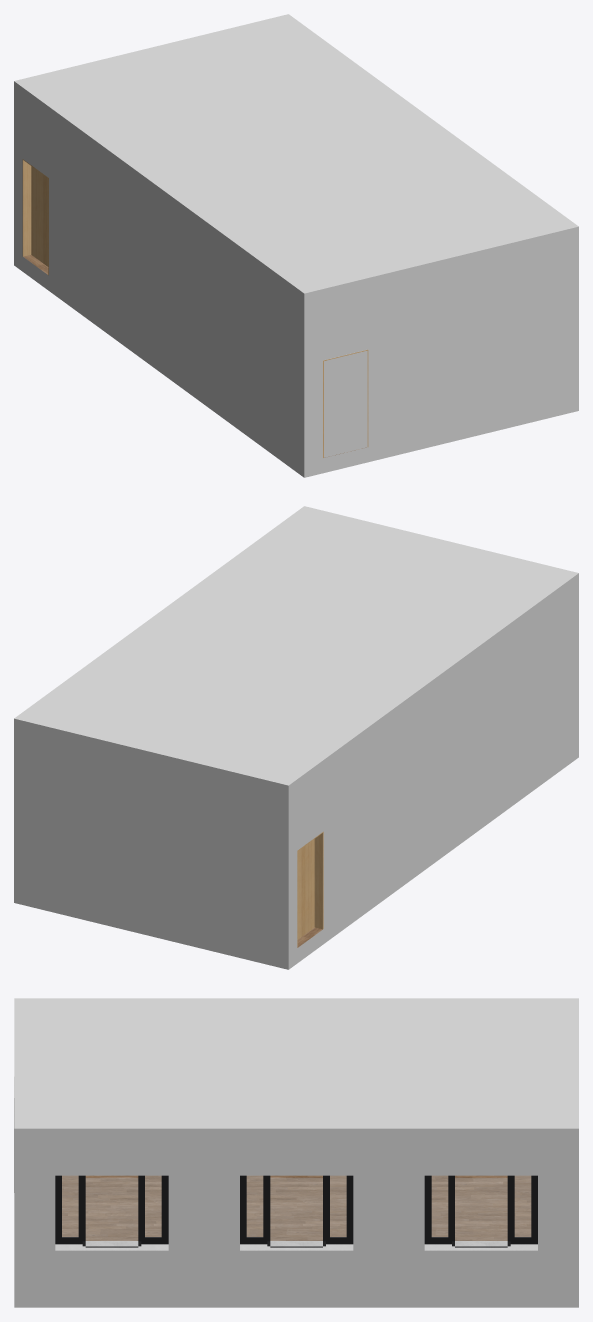
The model's file is tjdx.glb.
The picture shows the model from 3 angles, top to bottom: view 1: azimuth 30°, elevation 25°; view 2: azimuth 150°, elevation 25°; view 3: azimuth 270°, elevation 25°; orthographic projection. The views are drawn at different scales.
Visible parts, largest first — view 1: 外壳, 门; view 2: 外壳, 门; view 3: 外壳, 地板.001, 玻璃, 地板, 墙壁, 窗台.
Part boxes in pixels (x1,y1,x2,y2): 外壳: (14, 14, 578, 477); 门: (22, 159, 368, 457); 外壳: (14, 506, 578, 969); 门: (297, 831, 323, 947); 外壳: (14, 998, 578, 1307); 地板.001: (62, 1175, 531, 1240); 玻璃: (62, 1176, 530, 1246); 地板: (55, 1175, 537, 1247); 墙壁: (14, 1077, 537, 1250); 窗台: (85, 1241, 507, 1247).
Size of the model in its own units: 6.05 by 3.88 by 11.08.
12 materials, 8 textured.
